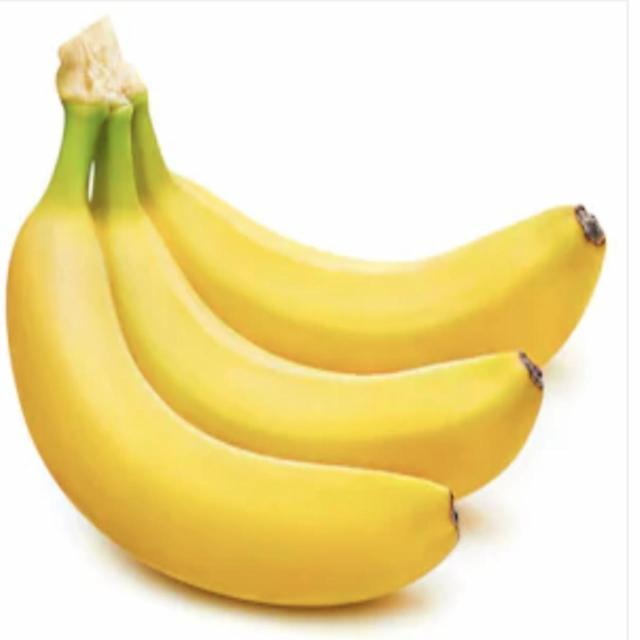banana: (0, 52, 587, 637), (87, 142, 616, 534)
